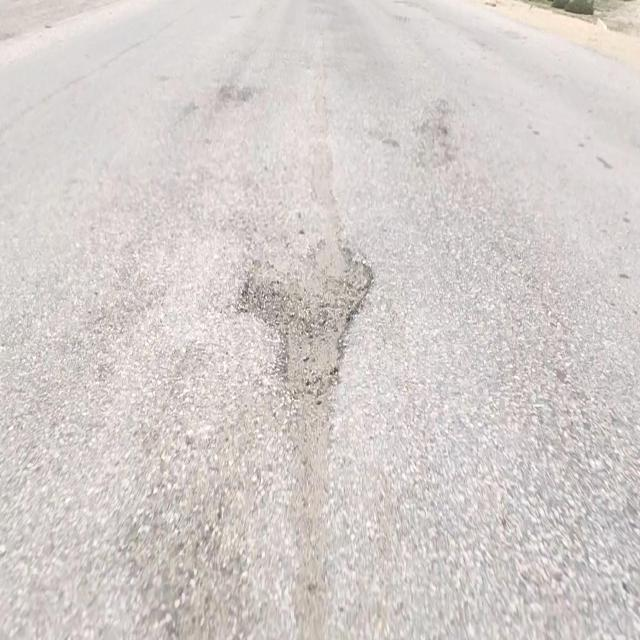Potholes: (234, 234, 377, 399)
